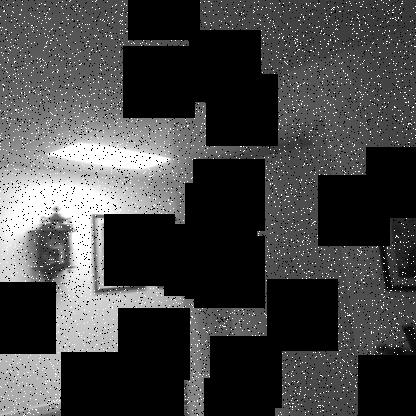Porte: (182, 115, 365, 415)
